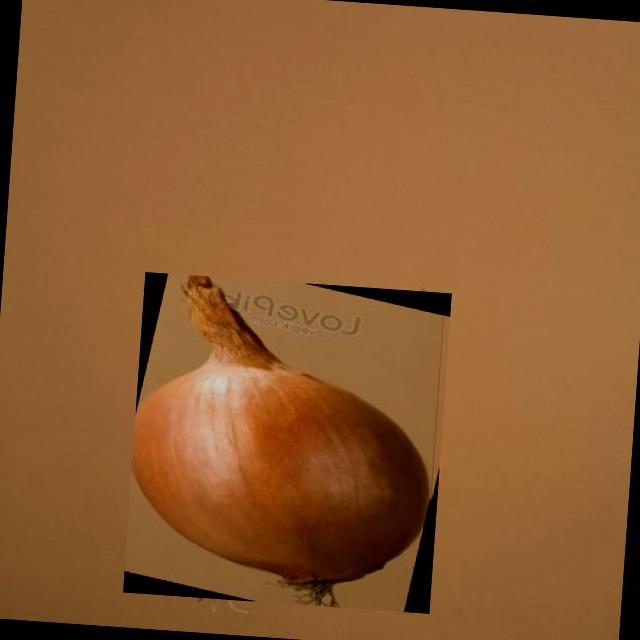healthy: (133, 275, 431, 607)
